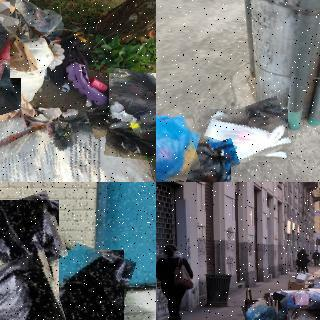Garbage: (0, 113, 156, 182), (189, 102, 291, 169), (52, 246, 130, 320), (0, 195, 63, 274), (106, 70, 156, 163), (159, 129, 234, 182), (0, 258, 63, 320), (156, 112, 196, 182), (243, 298, 279, 320), (281, 289, 320, 309), (286, 307, 320, 320)
